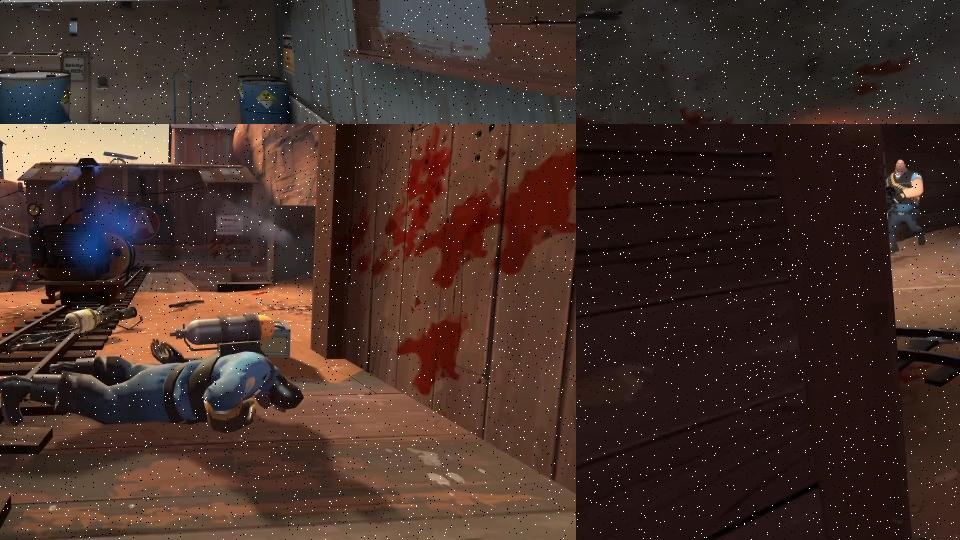Enemy: (0, 309, 319, 440), (886, 158, 926, 254)
